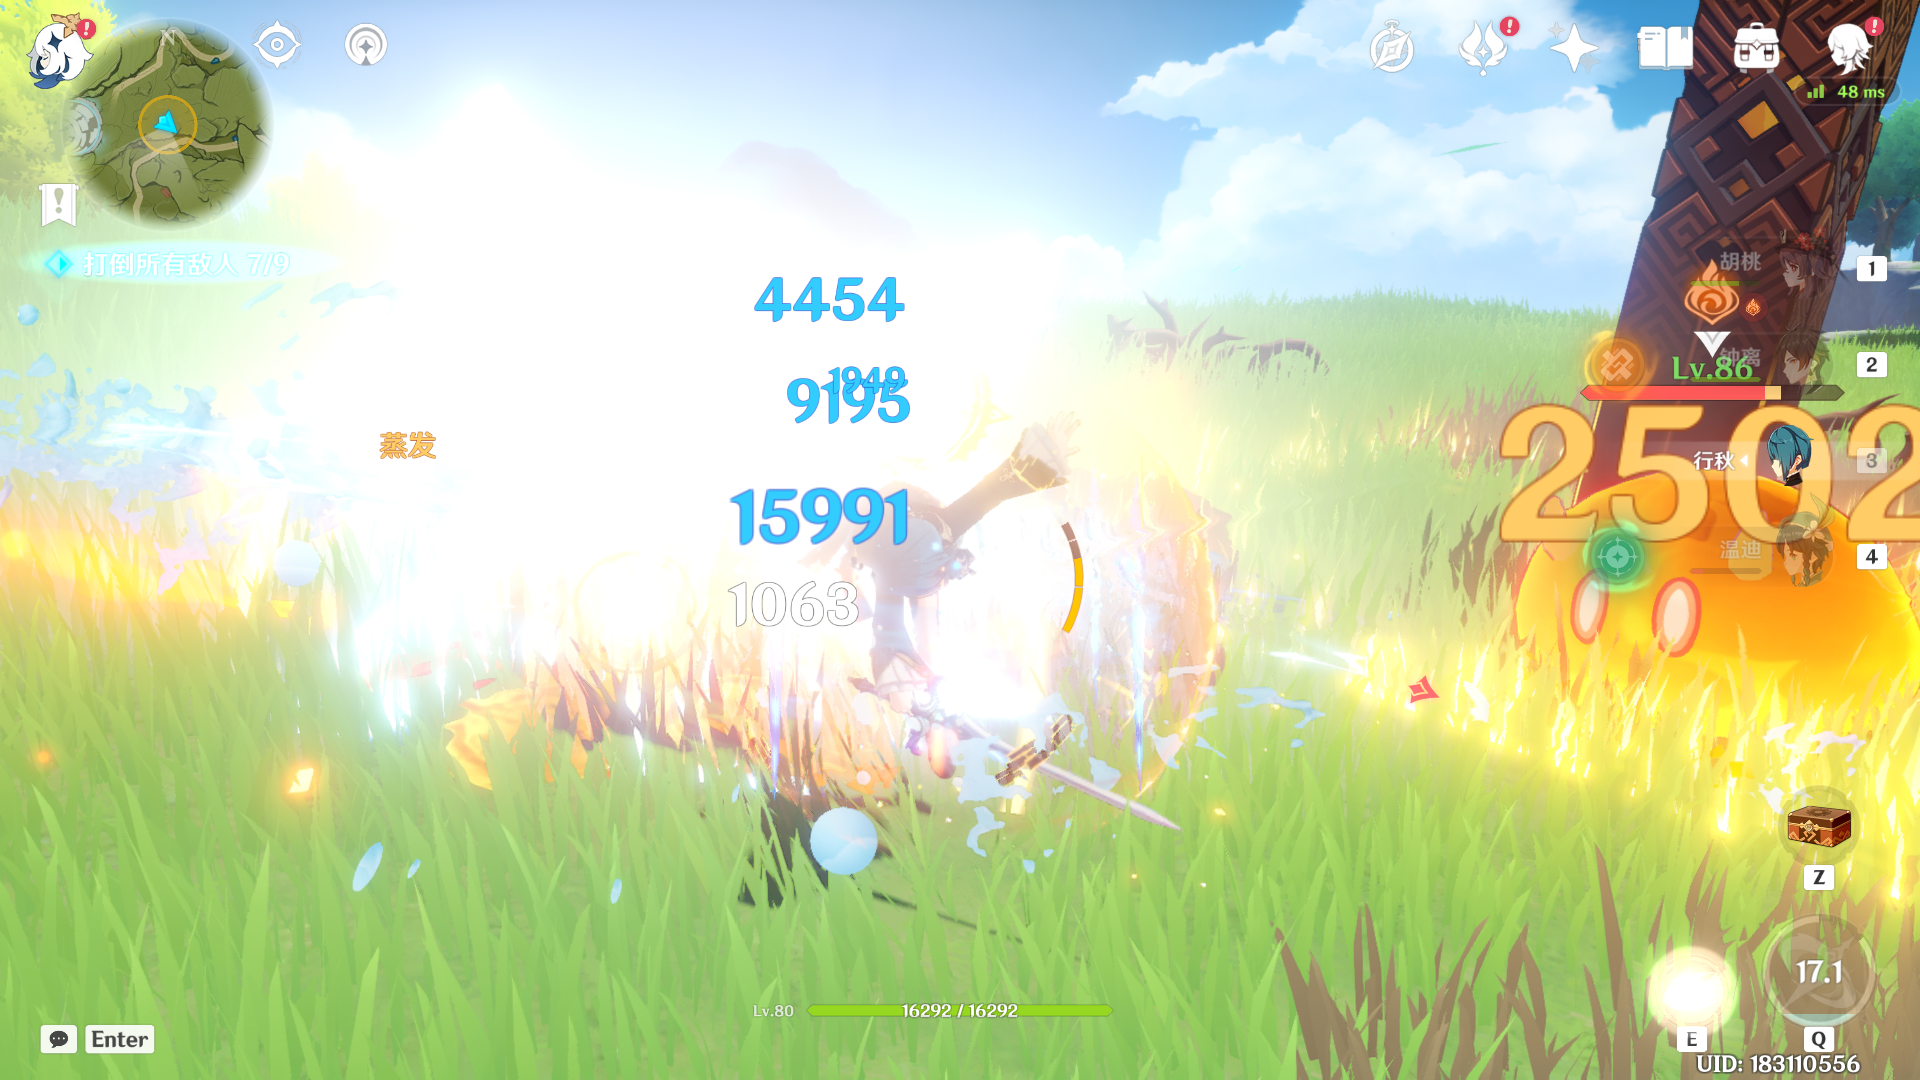slime: (1462, 427, 1920, 789)
